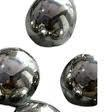ironball: (20, 0, 80, 54), (0, 51, 42, 100), (5, 102, 75, 111)
